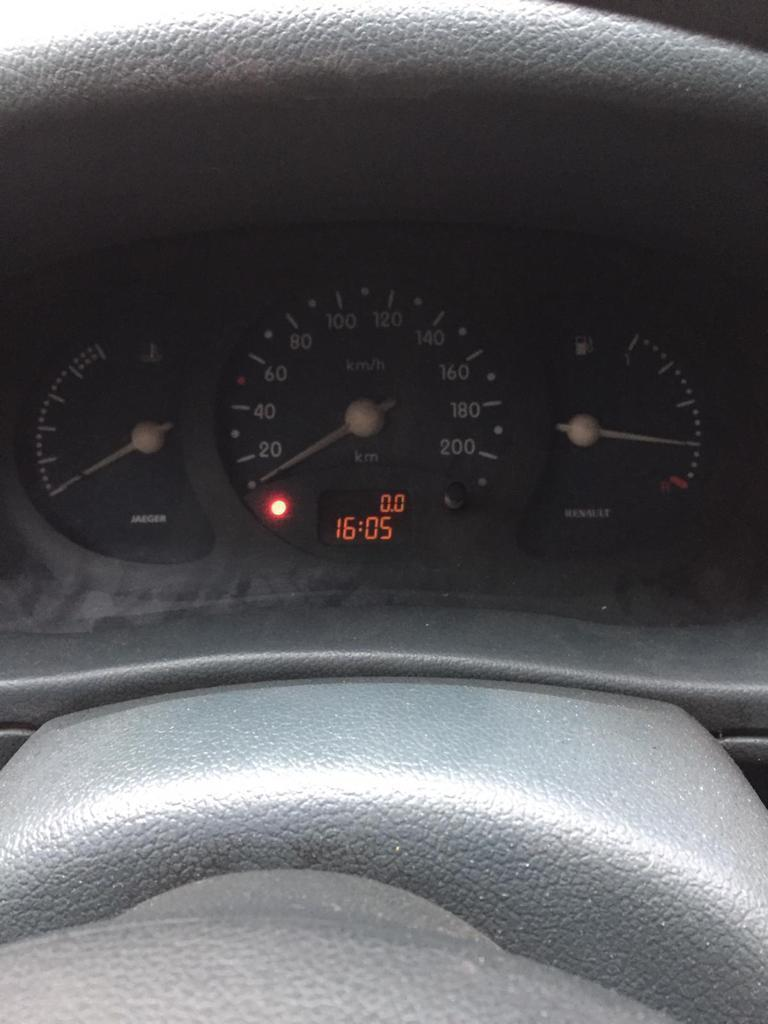,: (390, 507, 393, 513)
0: (365, 514, 378, 539), (380, 493, 390, 512), (394, 493, 404, 512)
1: (336, 515, 341, 539)
5: (378, 515, 393, 540)
6: (342, 515, 356, 540)
X: (358, 519, 363, 533)
odometer: (316, 486, 415, 548)
